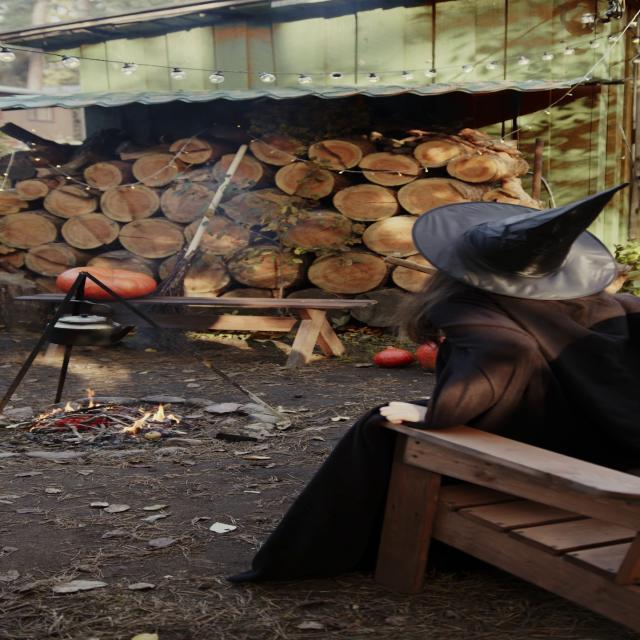Fire: (35, 390, 186, 435)
